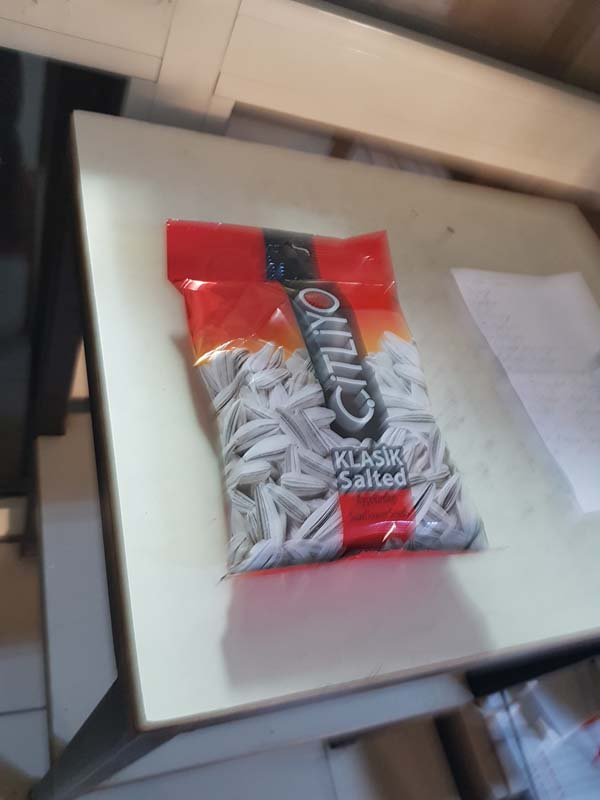citliyorklasik: (160, 204, 496, 597)
